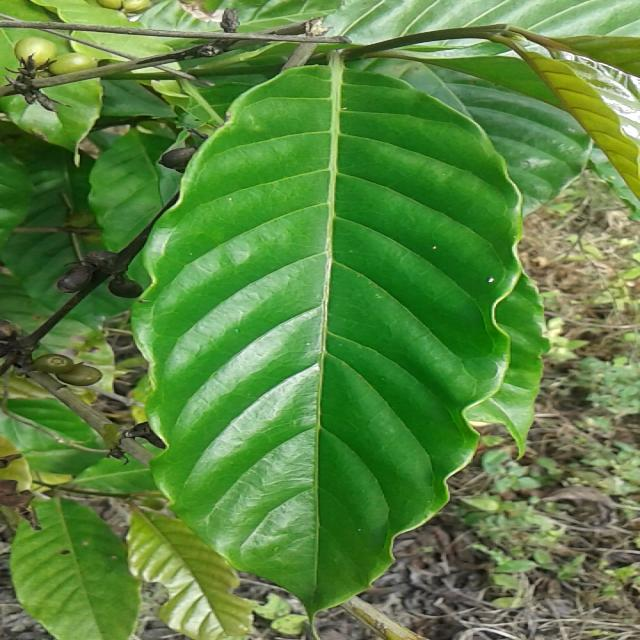Sanas: (147, 66, 534, 614)
